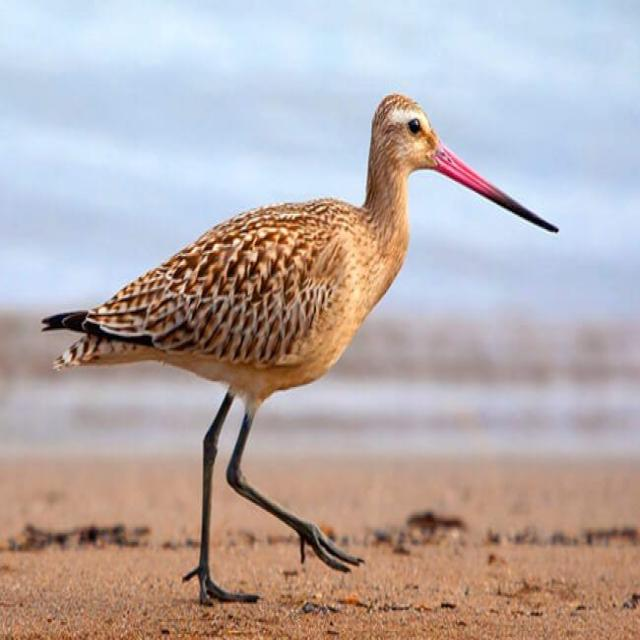Sandpiper: (51, 92, 552, 590)
